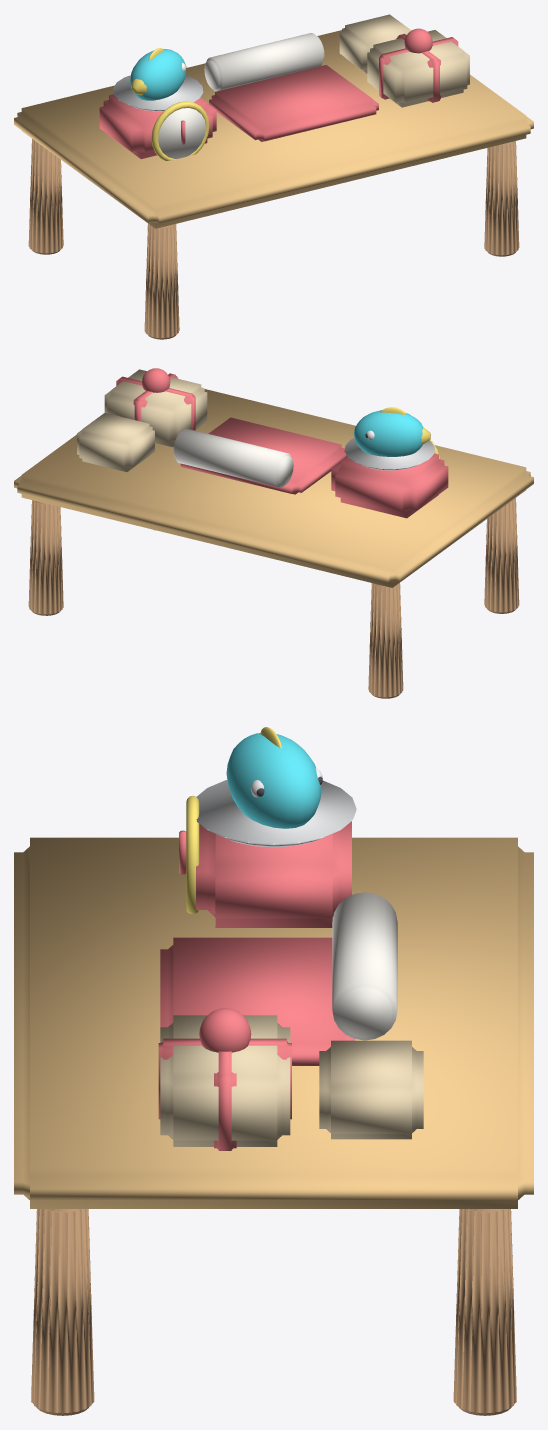
Rendered from Station_PackagingStation.fbx.
3 renders of one model, top to bottom at view 1: azimuth 30°, elevation 25°; view 2: azimuth 150°, elevation 25°; view 3: azimuth 270°, elevation 25°, orthographic. The views are drawn at different scales.
Visible parts, largest first — view 1: Tabletop, Sealer_Machine, Package_1, Film_Roll, Leg_-1.1_-0.65, Leg_1.1_-0.65, Leg_-1.1_0.65, Scale_Base, Package_2, ScaleFish_Body, Scale_DialFace, Scale_Pan (+4 smaller); view 2: Tabletop, Scale_Base, Sealer_Machine, Film_Roll, Package_1, Leg_-1.1_0.65, Leg_1.1_0.65, Package_2, Leg_-1.1_-0.65, ScaleFish_Body, Scale_Pan, Ribbon_Bow (+1 smaller); view 3: Tabletop, Sealer_Machine, Scale_Base, Package_1, Leg_1.1_-0.65, Leg_1.1_0.65, Package_2, Film_Roll, ScaleFish_Body, Scale_Pan, Ribbon_Bow, Ribbon_X (+2 smaller).
Boxes of the visible parts, x1,y1,x2,y2 form: Tabletop: (14,30,533,228); Sealer_Machine: (209,65,378,141); Package_1: (367,30,469,107); Film_Roll: (204,33,324,91); Leg_-1.1_-0.65: (144,223,179,339); Leg_1.1_-0.65: (484,141,519,256); Leg_-1.1_0.65: (28,139,63,254); Scale_Base: (99,94,216,158); Package_2: (339,14,411,73); ScaleFish_Body: (130,49,185,100); Scale_DialFace: (158,108,205,158); Scale_Pan: (113,75,203,111); Tabletop: (14,389,533,587); Scale_Base: (331,453,448,518); Sealer_Machine: (180,417,347,494); Film_Roll: (173,428,293,487); Package_1: (104,369,207,447); Leg_-1.1_0.65: (368,583,403,698); Leg_1.1_0.65: (28,500,63,615); Package_2: (77,413,154,471); Leg_-1.1_-0.65: (484,498,519,613); ScaleFish_Body: (354,410,423,456); Scale_Pan: (344,438,434,470); Ribbon_Bow: (142,368,170,392); Tabletop: (14,837,533,1208); Sealer_Machine: (160,937,355,1065); Scale_Base: (196,821,351,927); Package_1: (160,1015,290,1146); Leg_1.1_-0.65: (31,1209,94,1415); Leg_1.1_0.65: (453,1209,516,1415); Package_2: (319,1040,423,1139); Film_Roll: (332,892,397,1040); ScaleFish_Body: (226,733,321,828); Scale_Pan: (196,780,356,847); Ribbon_Bow: (199,1008,251,1052); Ribbon_X: (214,1051,236,1150).
Bounding box in the file's own units: 2.5 × 1.42 × 1.6.
